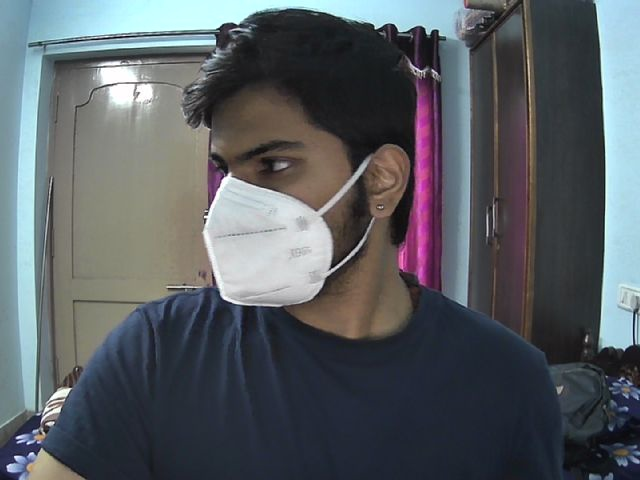Mask: (206, 179, 372, 306)
